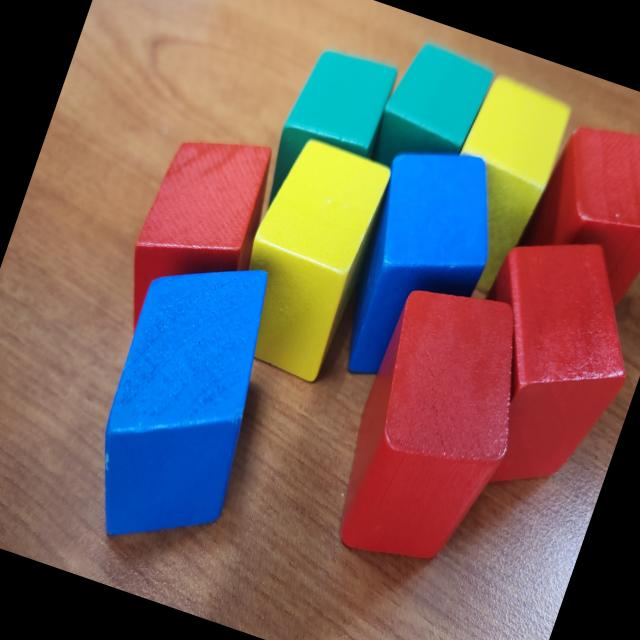blue: (66, 238, 300, 570), (320, 129, 518, 405)
green: (252, 38, 399, 240), (364, 37, 497, 194)
red: (315, 270, 550, 588), (428, 210, 640, 517), (105, 115, 289, 365), (505, 106, 640, 319)
yellow: (214, 130, 397, 386), (420, 71, 580, 302)
